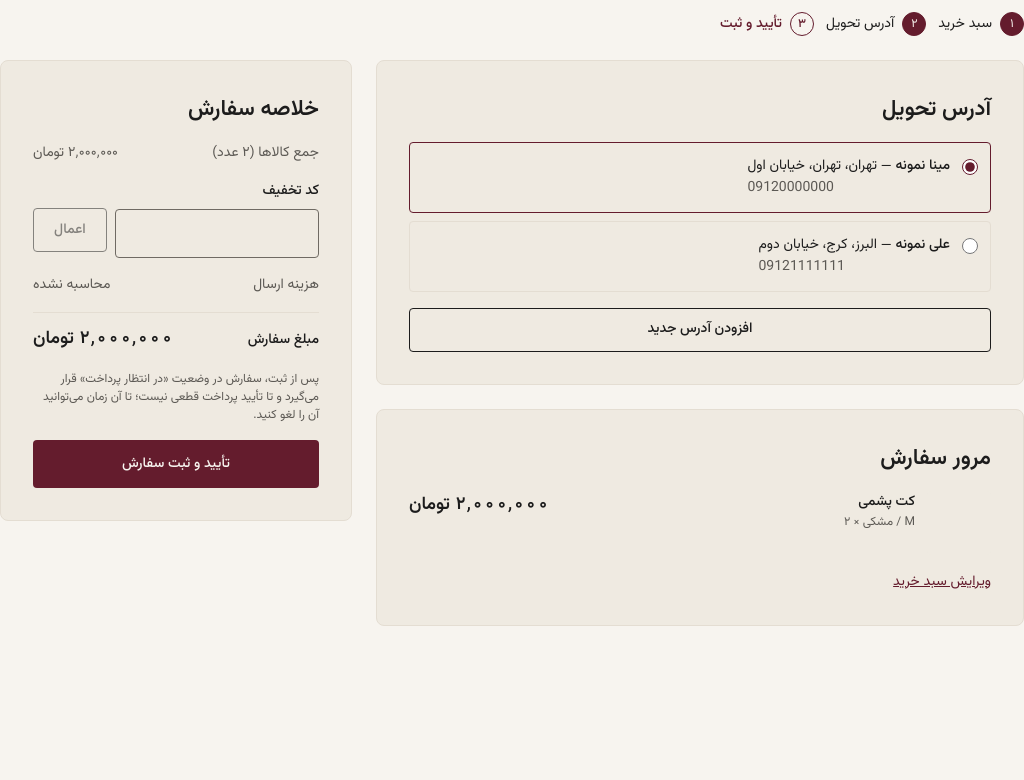
Checkout › 9) موجودی ناکافی: پیام، علامت «ناموجود» روی کالا و دکمهٔ ثبت غیرفعال
The width and height of the screenshot is (1024, 780).
Click the button "تأیید و ثبت سفارش". click: coordinates (176, 464)
box: [33,440,319,488]
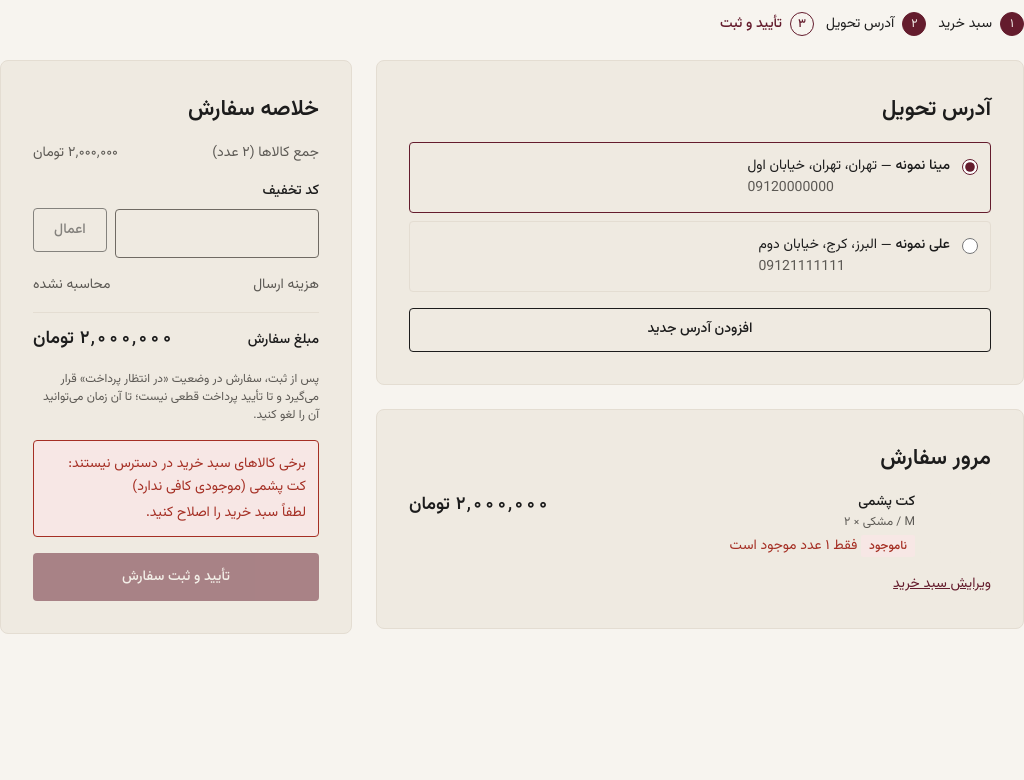
Expected: the message shows "در دسترس نیستند", [68,453,306,498]
Expected: the text "ناموجود" is shown, [861,535,915,557]
Expected: the text "ناموجود فقط ۱ عدد موجود است" is shown, [729,535,915,557]
